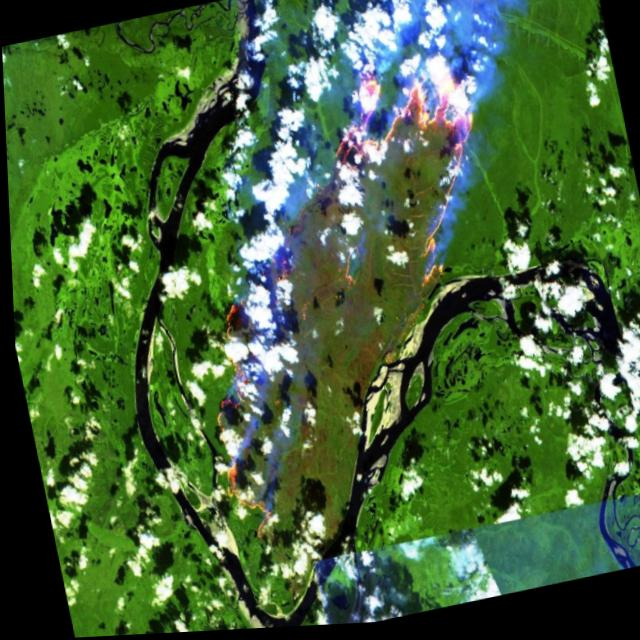fire: (292, 33, 511, 323), (171, 283, 313, 582)
